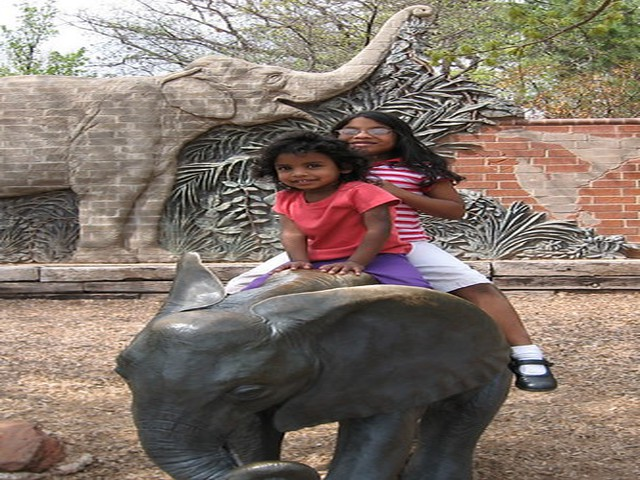Elephant: (105, 256, 523, 478)
Person: (261, 110, 539, 280)
